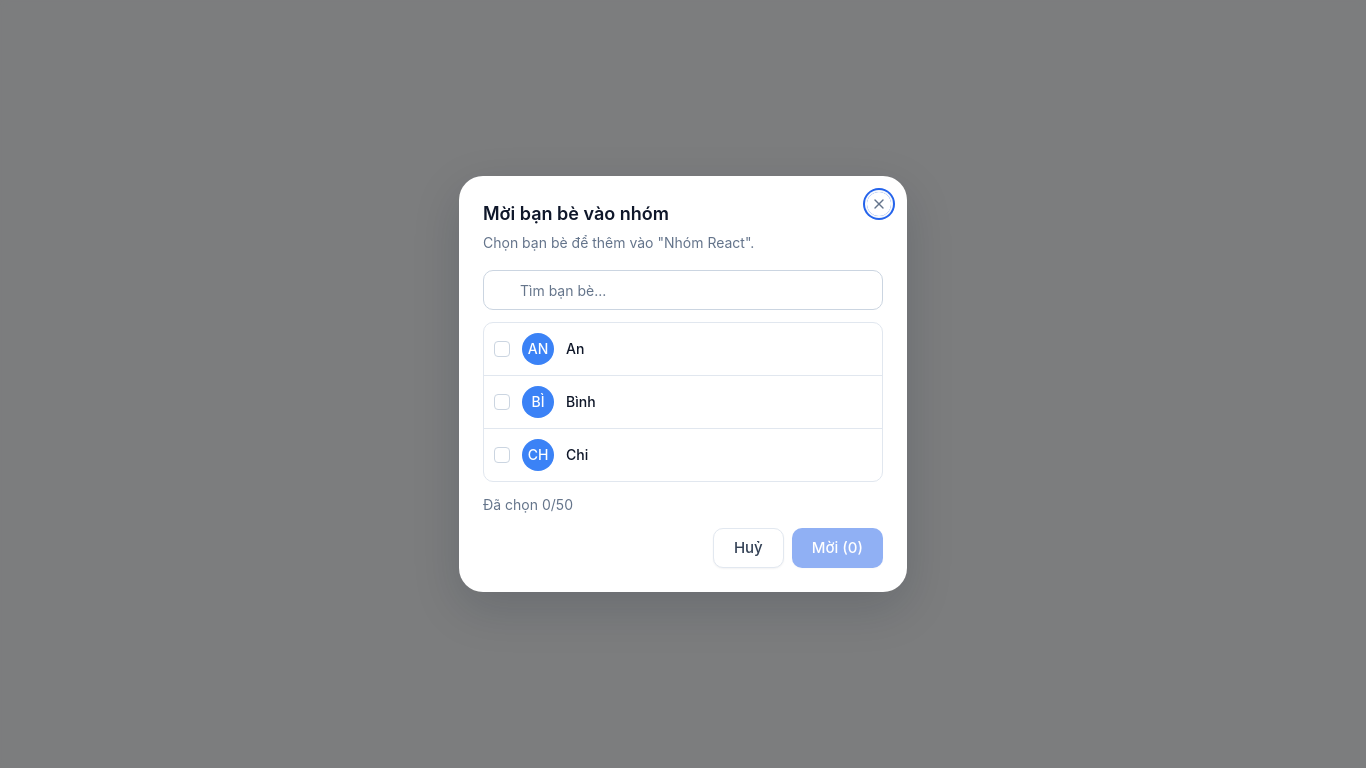
Test case: InviteMembersDialog › nút Mời khoá khi chưa chọn ai; bộ đếm 'Đã chọn n/50'
The image size is (1366, 768).
expect the button "Mời (0)" is disabled: met, box [792, 528, 883, 568]
expect the text "Đã chọn 0/50" is shown: met, box [483, 496, 573, 513]
Click the checkbox labelled "An".
click(502, 349)  # box [494, 341, 510, 357]
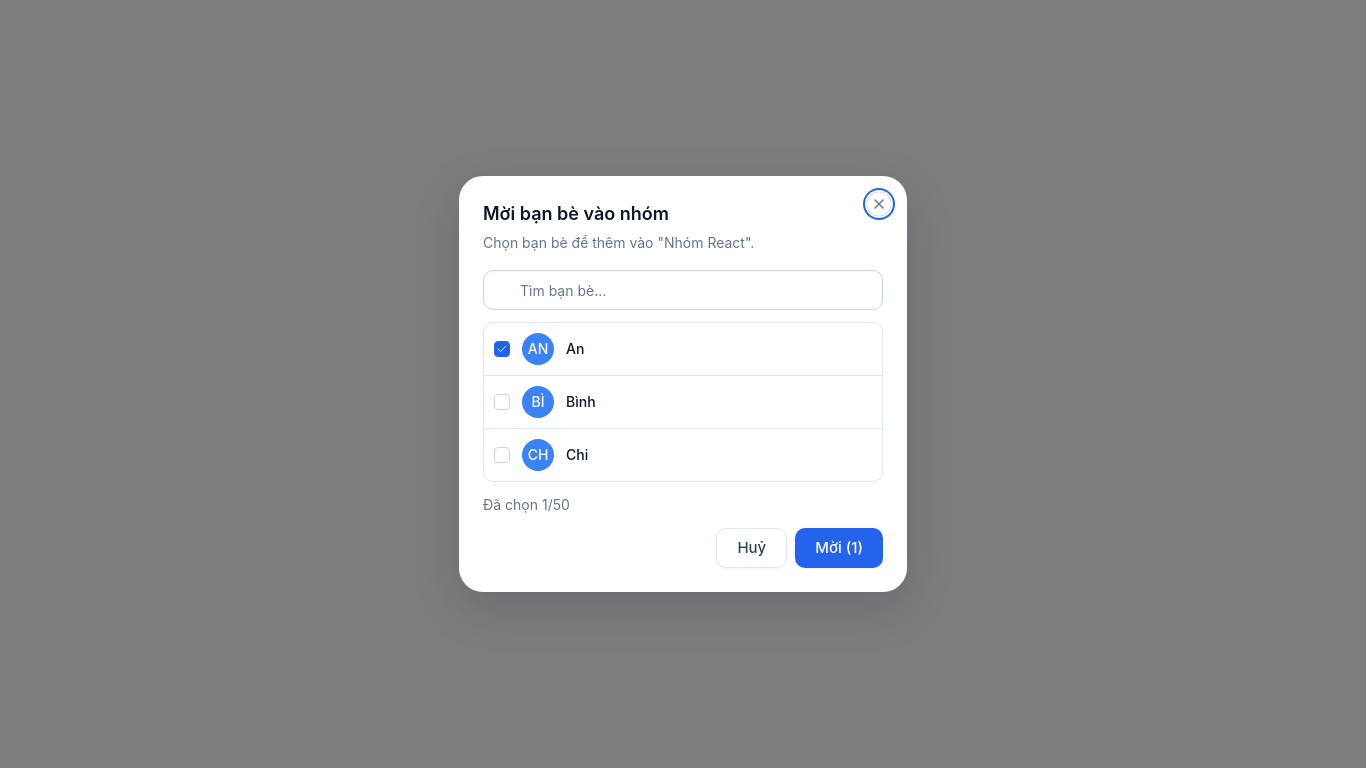
Click the checkbox labelled "Bình".
click(502, 402)  # box [494, 394, 510, 410]
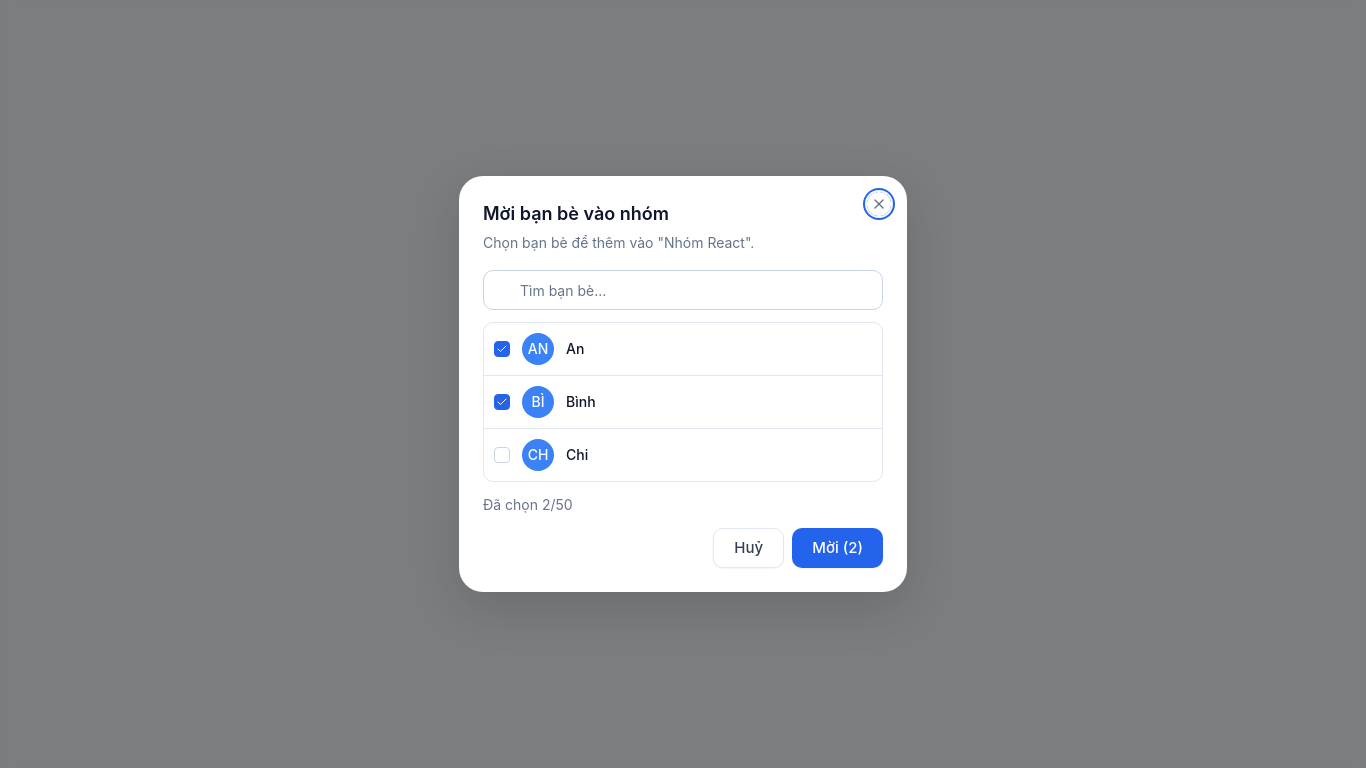
expect the button "Mời (2)" is enabled: met, box [792, 528, 883, 568]
expect the button "Mời (2)" is shown: met, box [792, 528, 883, 568]
